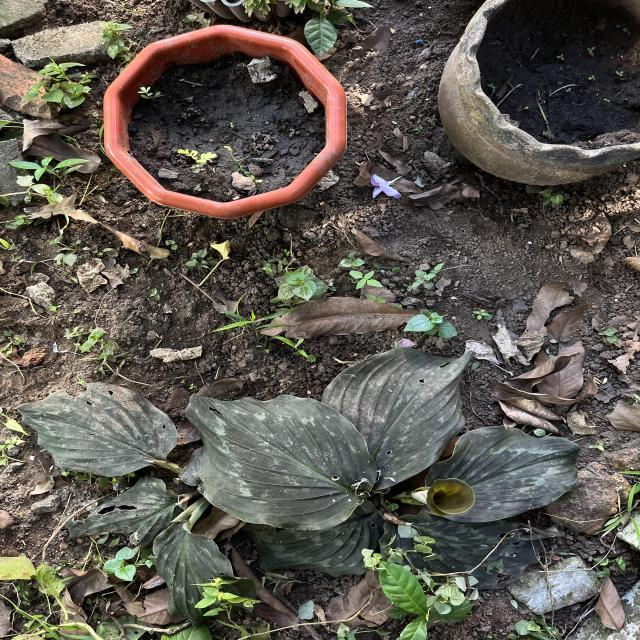Kaempferia galanga linn: (182, 392, 380, 532), (320, 345, 480, 495), (422, 423, 585, 526), (15, 380, 182, 479)
